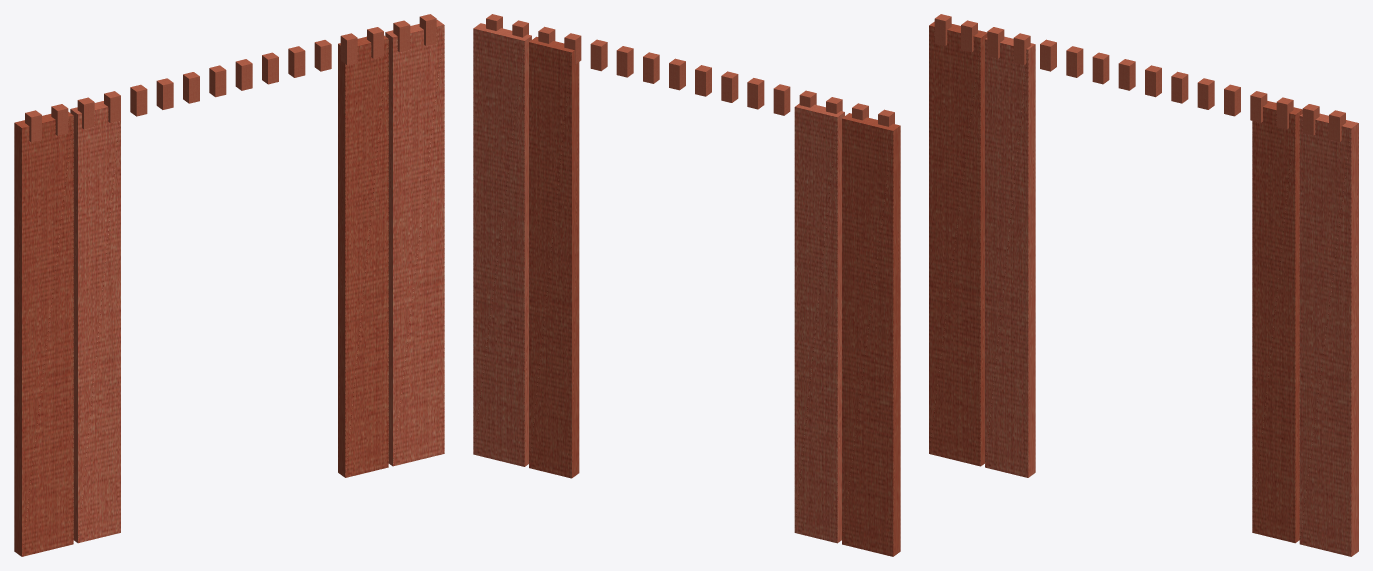
The model's file is curtain.gltf.
3 views of the same model, side by side, from view 1: azimuth 30°, elevation 25°; view 2: azimuth 150°, elevation 25°; view 3: azimuth 330°, elevation 25° (orthographic).
Parts seen in each view (by area): view 1: fold1, fold4, fold3, fold2, ring_12; view 2: fold1, fold4, fold3, fold2, ring_5, ring_10; view 3: fold4, fold1, fold2, fold3, ring_5, ring_10.
Part boxes in pixels (box(x1,y1,x2,y2)): fold1: box(14, 112, 73, 556); fold4: box(385, 19, 444, 466); fold3: box(338, 35, 388, 477); fold2: box(70, 101, 120, 543); ring_12: box(340, 33, 357, 65); fold1: box(842, 113, 900, 556); fold4: box(473, 23, 531, 466); fold3: box(529, 36, 579, 478); fold2: box(794, 103, 844, 543); ring_5: box(747, 78, 764, 109); ring_10: box(616, 46, 633, 77); fold4: box(1299, 113, 1358, 556); fold1: box(929, 21, 987, 466); fold2: box(985, 36, 1035, 477); fold3: box(1252, 101, 1302, 543); ring_5: box(1066, 46, 1083, 77); ring_10: box(1197, 78, 1214, 109).
Bounding box in the file's own units: 0.98 × 0.9725 × 0.0375.
Materials: 3 (3 with a texture image).
